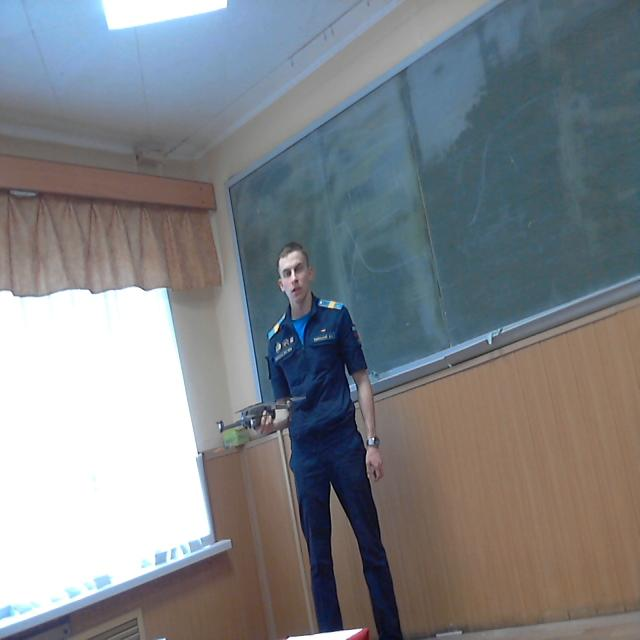drone: (203, 383, 319, 440)
